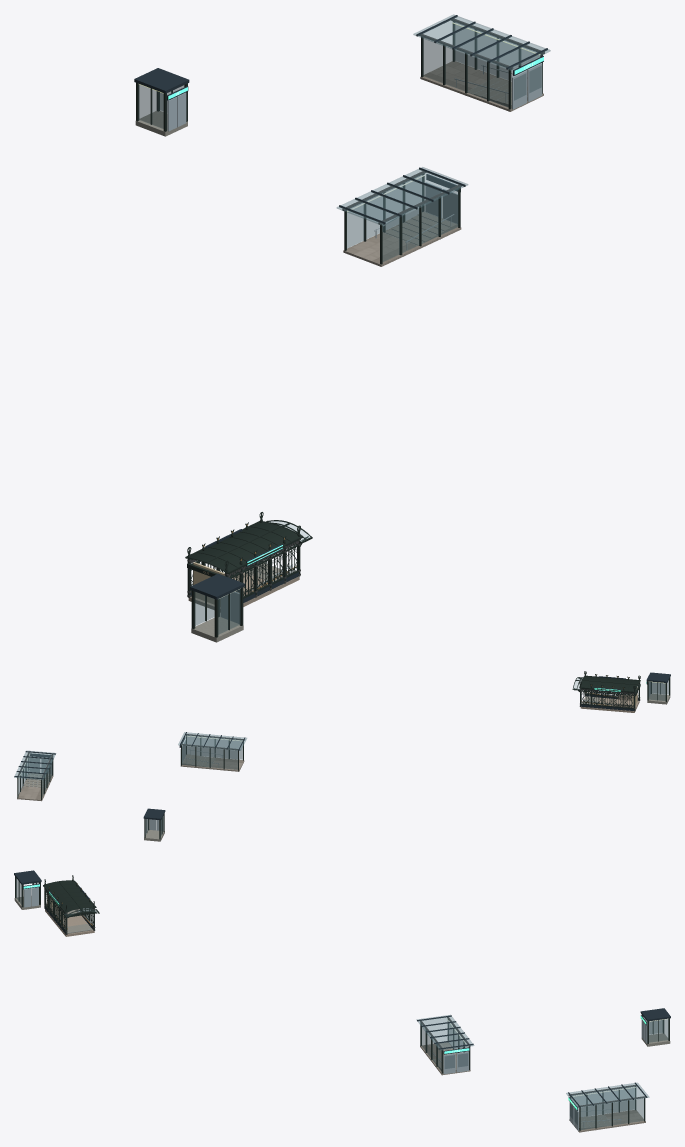
File: place-coecl.glb
3 views of the same model, one above another, from view 1: azimuth 30°, elevation 25°; view 2: azimuth 150°, elevation 25°; view 3: azimuth 270°, elevation 25° (orthographic). The views are drawn at different scales.
Parts seen in each view (by area): view 1: McKim wrought iron entrance.CastIron, Dartmouth glass entrance.Glass, Old South Church glass entrance.Glass, Dartmouth glass entrance.GlassRoof, Old South Church glass entrance.GlassRoof, Old South Church glass entrance.BostonGranite, Dartmouth glass entrance.BostonGranite, Copley elevator.Glass, Dartmouth glass entrance.Alloy, Old South Church glass entrance.CastIron, Old South Church glass entrance.DeckConcrete, Old South Church glass entrance.Alloy (+5 smaller); view 2: McKim wrought iron entrance.CastIron, Old South Church glass entrance.Glass, Old South Church glass entrance.GlassRoof, Dartmouth glass entrance.GlassRoof, McKim wrought iron entrance.Limestone, Old South Church glass entrance.BostonGranite, Dartmouth glass entrance.Iron, Dartmouth glass entrance.BostonGranite, Copley elevator.Glass, McKim wrought iron entrance.Iron, Dartmouth glass entrance.Alloy, Old South Church glass entrance.DeckConcrete (+3 smaller); view 3: Dartmouth glass entrance.Glass, McKim wrought iron entrance.CastIron, Dartmouth glass entrance.GlassRoof, Old South Church glass entrance.GlassRoof, Old South Church glass entrance.Glass, Dartmouth glass entrance.BostonGranite, Old South Church glass entrance.Alloy, Old South Church glass entrance.Iron, McKim wrought iron entrance.Limestone, Copley elevator.Glass.001, Old South Church glass entrance.CastIron.
Part boxes in pixels (<box>): McKim wrought iron entrance.CastIron: <box>185,512,312,598</box>; Dartmouth glass entrance.Glass: <box>423,22,541,106</box>; Old South Church glass entrance.Glass: <box>347,175,458,261</box>; Dartmouth glass entrance.GlassRoof: <box>413,14,550,70</box>; Old South Church glass entrance.GlassRoof: <box>336,167,468,225</box>; Old South Church glass entrance.BostonGranite: <box>343,224,461,266</box>; Dartmouth glass entrance.BostonGranite: <box>420,61,543,111</box>; Copley elevator.Glass: <box>195,589,240,634</box>; Dartmouth glass entrance.Alloy: <box>454,63,542,109</box>; Old South Church glass entrance.CastIron: <box>344,174,460,264</box>; Old South Church glass entrance.DeckConcrete: <box>385,212,457,245</box>; Old South Church glass entrance.Alloy: <box>374,182,457,249</box>; McKim wrought iron entrance.CastIron: <box>572,671,640,711</box>; Old South Church glass entrance.Glass: <box>182,736,242,769</box>; Old South Church glass entrance.GlassRoof: <box>178,732,246,750</box>; Dartmouth glass entrance.GlassRoof: <box>14,750,56,780</box>; McKim wrought iron entrance.Limestone: <box>580,694,639,712</box>; Old South Church glass entrance.BostonGranite: <box>180,757,244,771</box>; Dartmouth glass entrance.Iron: <box>14,751,55,779</box>; Dartmouth glass entrance.BostonGranite: <box>17,774,53,801</box>; Copley elevator.Glass: <box>648,680,668,700</box>; McKim wrought iron entrance.Iron: <box>581,676,638,710</box>; Dartmouth glass entrance.Alloy: <box>23,757,51,788</box>; Old South Church glass entrance.DeckConcrete: <box>182,754,214,767</box>; Dartmouth glass entrance.Glass: <box>569,1088,644,1129</box>; McKim wrought iron entrance.CastIron: <box>43,875,99,934</box>; Dartmouth glass entrance.GlassRoof: <box>566,1082,649,1107</box>; Old South Church glass entrance.GlassRoof: <box>416,1014,474,1050</box>; Old South Church glass entrance.Glass: <box>421,1023,468,1071</box>; Dartmouth glass entrance.BostonGranite: <box>569,1110,645,1132</box>; Old South Church glass entrance.Alloy: <box>430,1048,468,1074</box>; Old South Church glass entrance.Iron: <box>417,1015,473,1054</box>; McKim wrought iron entrance.Limestone: <box>45,897,94,936</box>; Copley elevator.Glass.001: <box>643,1017,668,1042</box>; Old South Church glass entrance.CastIron: <box>420,1021,470,1073</box>.
Bounding box in the file's own units: 65.85 × 4.15 × 77.32.
Materials: 16 (3 with a texture image).
